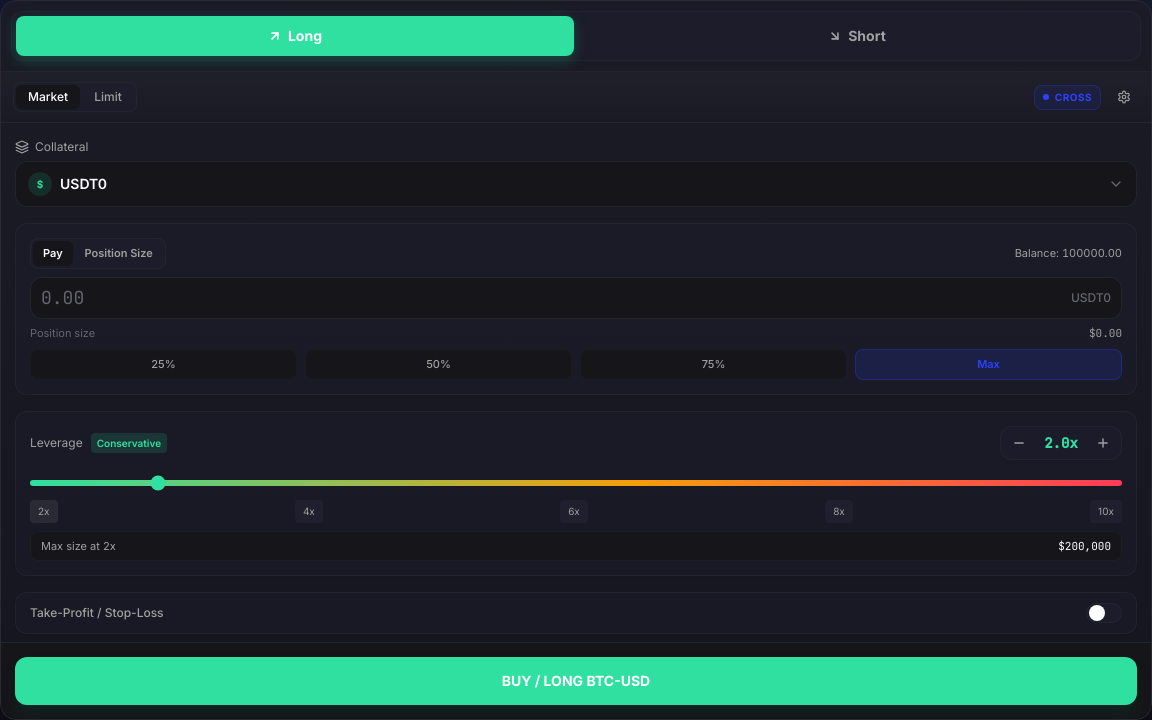
TradingForm risk and funding › shows alt-collateral summary rows when an alt is selected
This screenshot has width=1152, height=720.
Step 1. Click the button with test id "collateral-selector" → (84, 184), box [15, 161, 1137, 207]
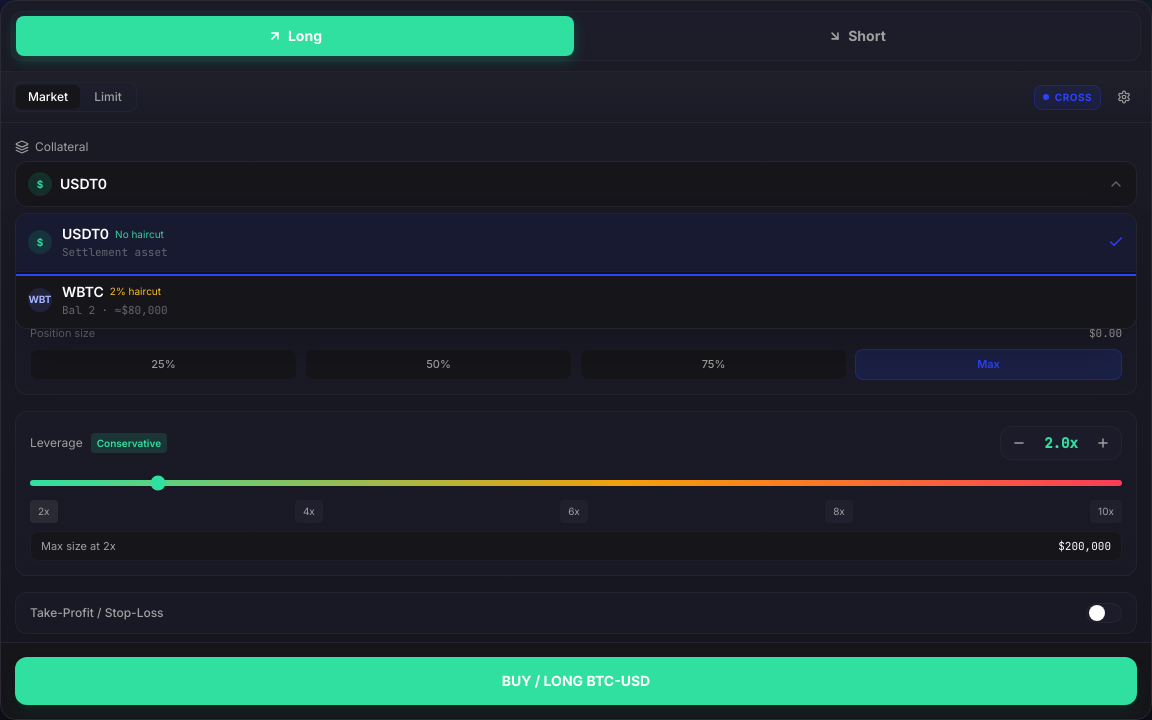
Step 2. Click the text "WBTC" → (83, 292), box [62, 282, 104, 302]
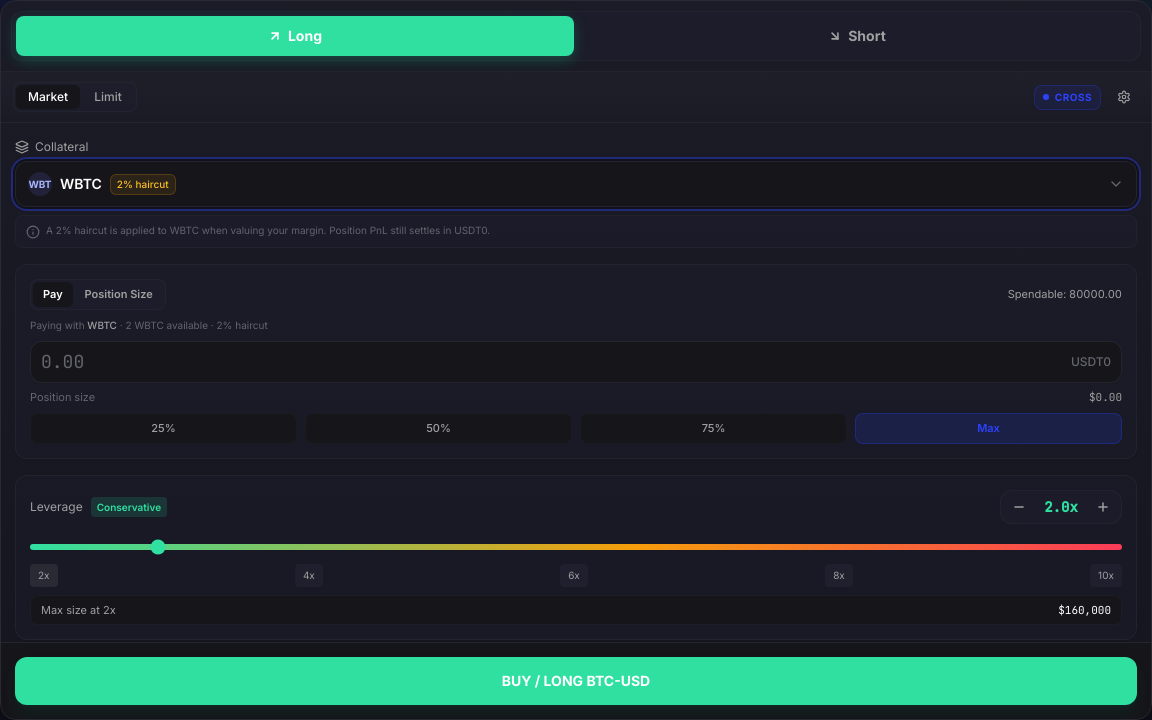
Step 3. Type "100" into the number field with test id "margin-input" → (552, 362), box [41, 348, 1063, 376]
(page scrolled)
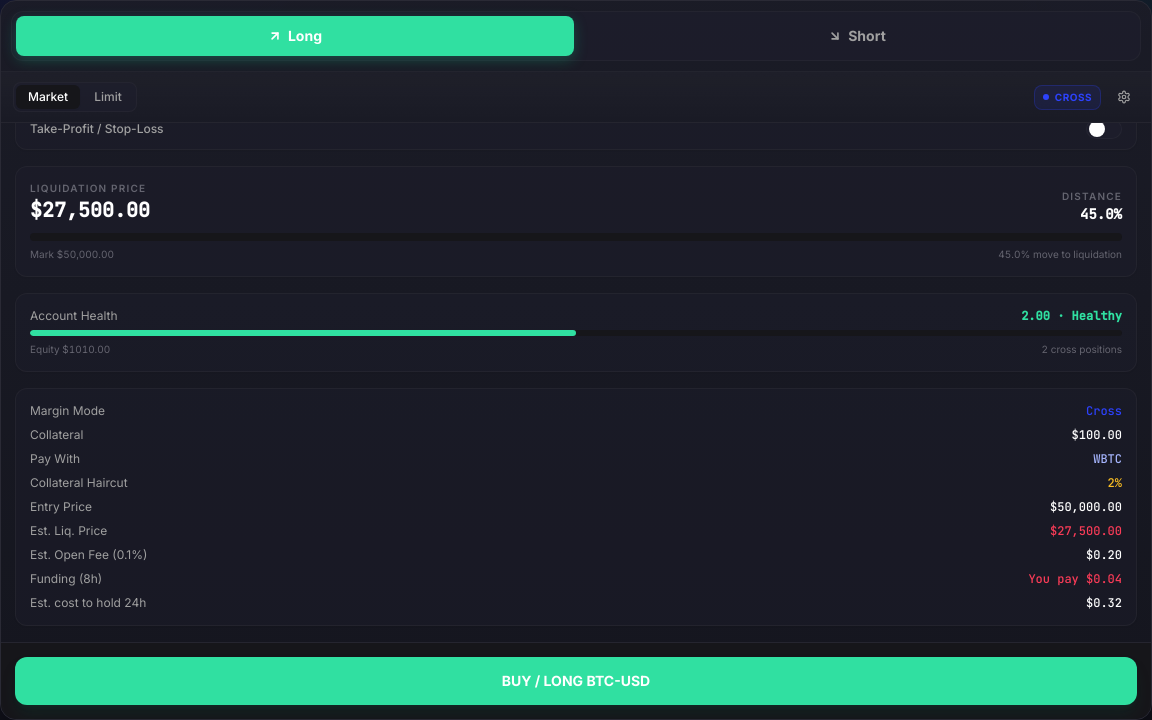
Check: the text "Collateral Haircut" is shown, box [30, 475, 128, 491]
